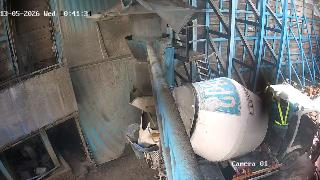cement_mixer_truck: (129, 75, 320, 180)
swing_chute: (125, 36, 171, 95)
